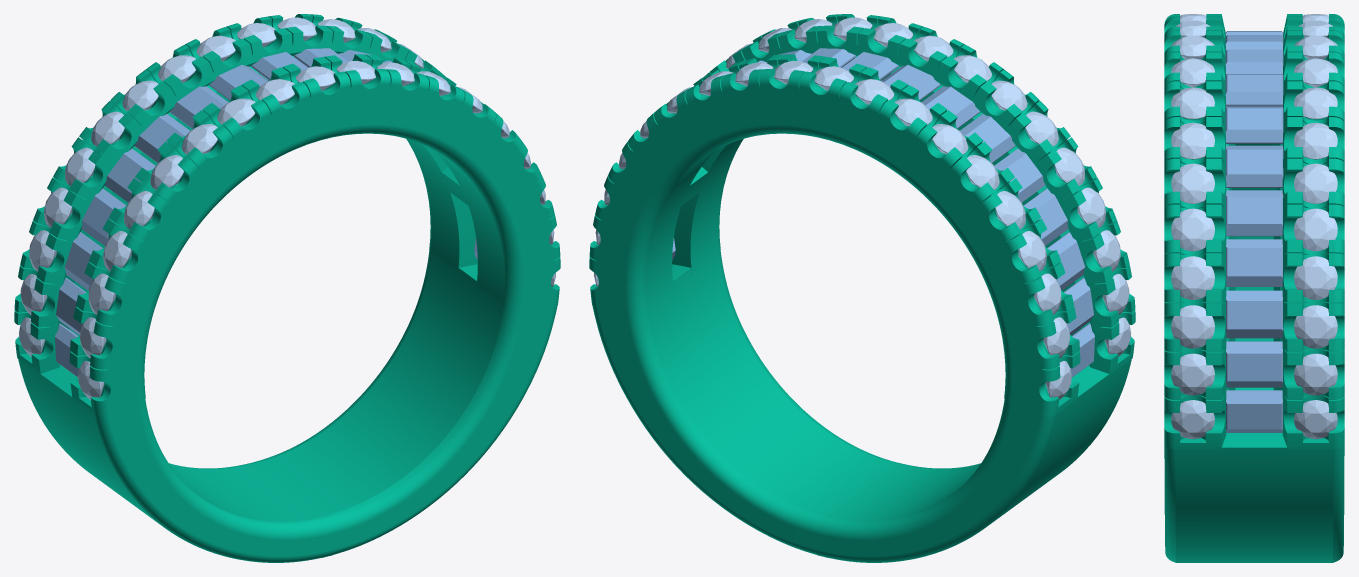
The picture shows the model from 3 angles, left to right: view 1: azimuth 30°, elevation 25°; view 2: azimuth 150°, elevation 25°; view 3: azimuth 270°, elevation 25°; orthographic projection. The views are drawn at different scales.
Visible parts, largest first — view 1: 18 - 07 - 09 - 24 - RPT(front).3dm, Diamond_Round (×16), Diamond_Baguette Straight (×9); view 2: 18 - 07 - 09 - 24 - RPT(front).3dm, Diamond_Round (×16), Diamond_Baguette Straight (×9); view 3: 18 - 07 - 09 - 24 - RPT(front).3dm, Diamond_Round (×22), Diamond_Baguette Straight (×10).
Part boxes in pixels (box(x1,y1,x2,y2)): 18 - 07 - 09 - 24 - RPT(front).3dm: box(14, 14, 560, 562); Diamond_Round (×16): box(20, 35, 294, 358); Diamond_Baguette Straight (×9): box(55, 52, 307, 377); 18 - 07 - 09 - 24 - RPT(front).3dm: box(589, 14, 1135, 562); Diamond_Round (×16): box(855, 35, 1129, 358); Diamond_Baguette Straight (×9): box(842, 52, 1094, 377); 18 - 07 - 09 - 24 - RPT(front).3dm: box(1164, 14, 1344, 562); Diamond_Round (×22): box(1171, 20, 1337, 439); Diamond_Baguette Straight (×10): box(1225, 35, 1283, 432).
Size of the model in its own units: 2.78 by 2.73 by 0.8962.
